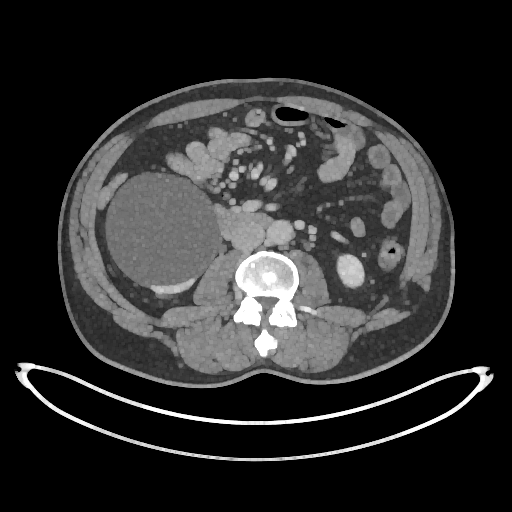Lesion: (105, 169, 220, 289)
